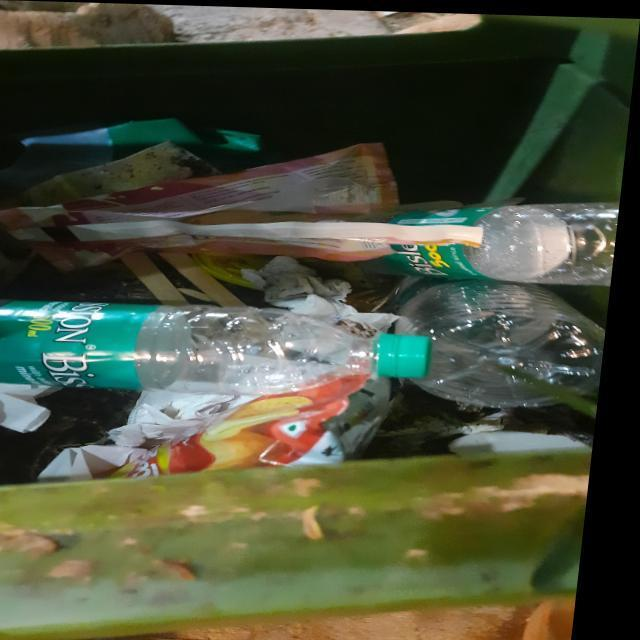Garbage: (0, 116, 624, 483)
Plastic_Bag: (197, 250, 279, 287)
Plastic_bottle: (0, 299, 439, 393), (397, 274, 613, 404), (378, 199, 622, 282)
Plastic_wraper: (0, 140, 490, 270), (140, 372, 400, 476)
